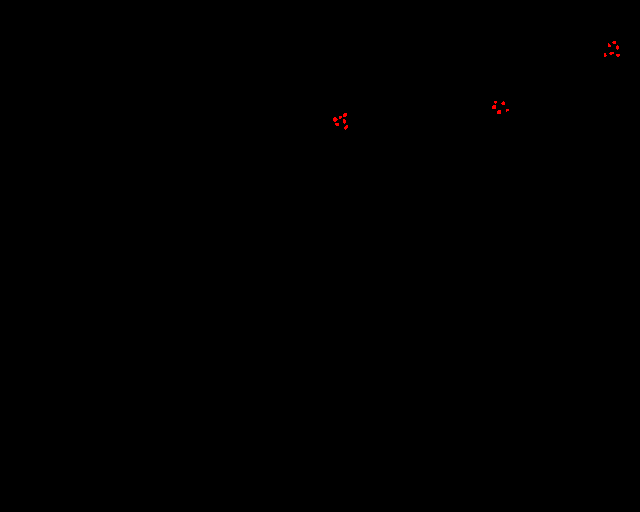Target: (333, 117, 338, 122), (344, 125, 348, 130), (501, 101, 505, 105), (492, 105, 496, 109), (497, 110, 501, 114), (343, 113, 347, 117), (616, 45, 619, 50), (609, 52, 614, 55), (343, 119, 346, 124), (612, 41, 616, 44), (608, 43, 611, 47), (604, 53, 607, 57), (616, 54, 620, 57), (335, 123, 339, 126), (494, 101, 497, 104), (506, 109, 509, 112), (339, 116, 342, 119)
